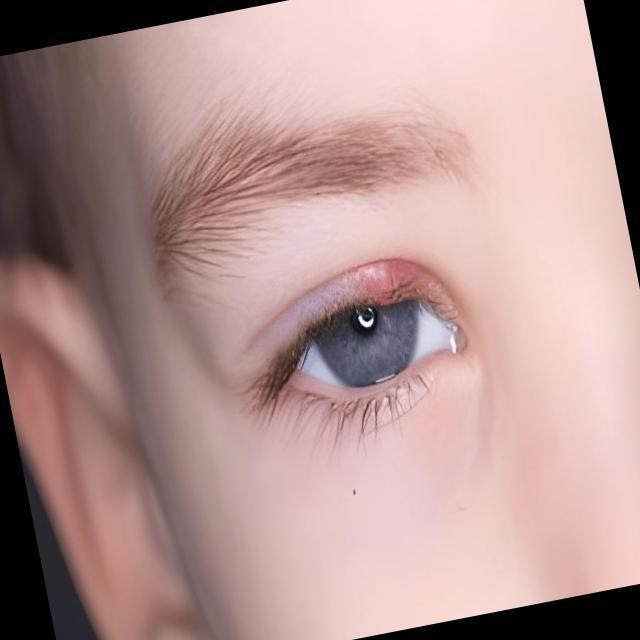Stye: (326, 226, 468, 351)
